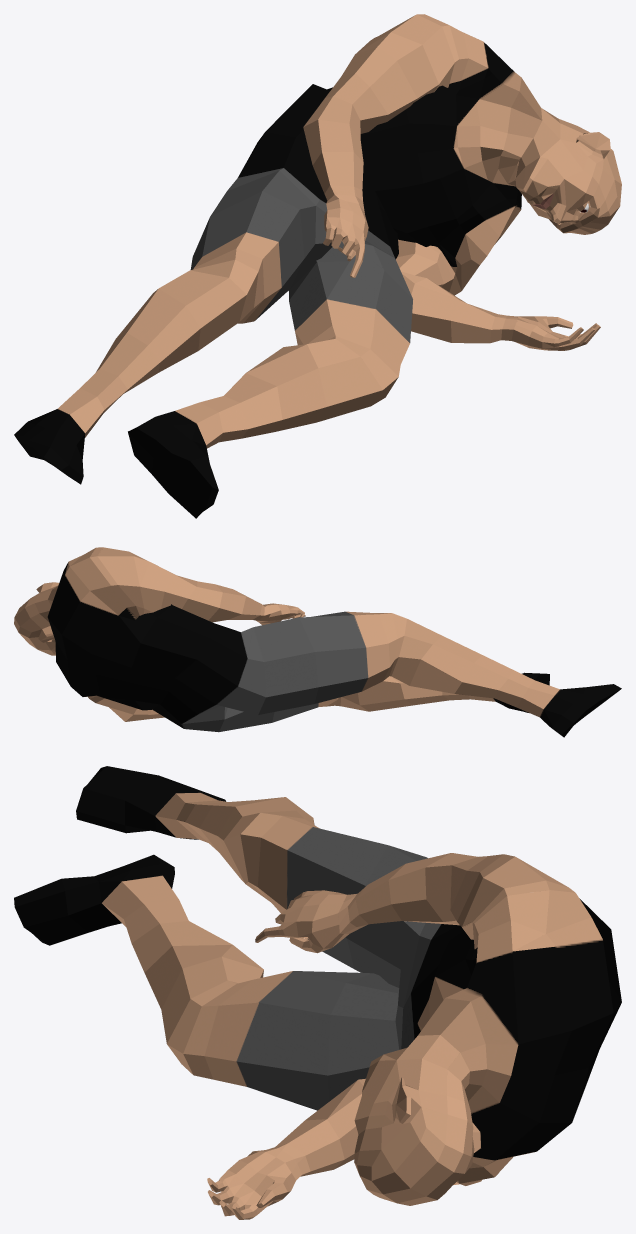
The model's file is PlayerDead(63).obj.
3 renders of one model, top to bottom at view 1: azimuth 30°, elevation 25°; view 2: azimuth 150°, elevation 25°; view 3: azimuth 270°, elevation 25°, orthographic. The views are drawn at different scales.
Parts seen in each view (by area): view 1: Plane002; view 2: Plane002; view 3: Plane002.
Part boxes in pixels (x1=…): Plane002: x1=14, y1=14, x2=621, y2=518; Plane002: x1=14, y1=547, x2=621, y2=737; Plane002: x1=14, y1=766, x2=621, y2=1219.
Bounding box in the file's own units: 1601 × 555 × 953.
